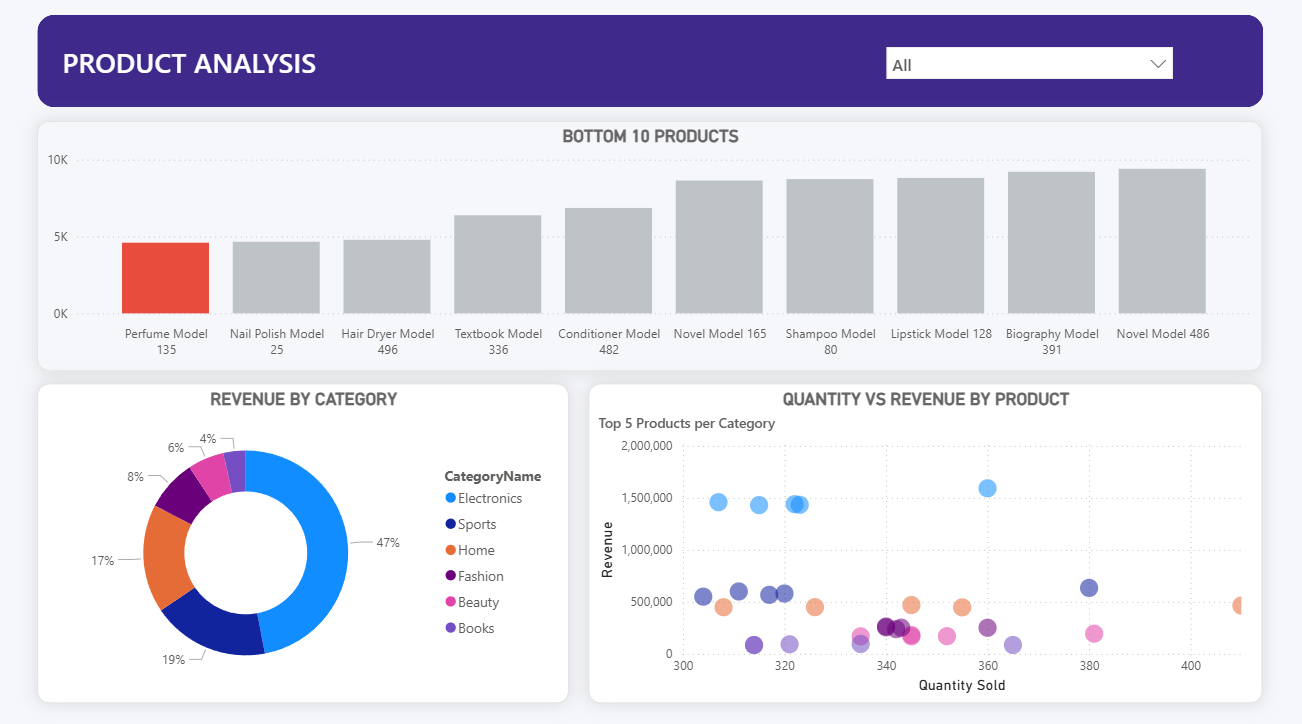

Layout of this report page (visuals, bound fields, positions):
{"tool":"powerbi","page":{"name":"Product Analysis","canvas":[1280,720],"ordinal":1},"visuals":[{"type":"shape","box":[40.4,23.2,1199.6,90.5],"z":0},{"type":"slicer","title":"YEAR ","fields":{"Values":["dwh DimDate.YearNumber"]},"box":[860.9,42.8,300,56.3],"z":1},{"type":"columnChart","title":"BOTTOM 10 PRODUCTS","fields":{"Category":["dwh DimProduct.ProductName"],"Y":["Sum(dwh FactSales.Revenue)"]},"box":[40.4,127.2,1198.4,244.6],"z":2},{"type":"donutChart","title":"REVENUE BY CATEGORY","fields":{"Category":["dwh DimProduct.CategoryName"],"Y":["Sum(dwh FactSales.Revenue)"]},"box":[40.4,384,519.7,313],"z":3},{"type":"scatterChart","title":"QUANTITY VS REVENUE BY PRODUCT","fields":{"X":["Sum(dwh FactSales.Quantity)"],"Y":["dwh DimProduct.Product Revenue"],"Series":["dwh DimProduct.CategoryName"],"Category":["dwh DimProduct.ProductName"]},"box":[579.6,384,659.1,313],"z":4}]}

Visuals, with their boxes in screenshot pixels (x1, y1, x2, y2), scaled from the page's 1280x720 canvas onto the 1302x724 screenshot:
shape: (41,23,1261,114)
"YEAR " slicer: (876,43,1181,100)
"BOTTOM 10 PRODUCTS" columnChart: (41,128,1260,374)
"REVENUE BY CATEGORY" donutChart: (41,386,570,701)
"QUANTITY VS REVENUE BY PRODUCT" scatterChart: (590,386,1260,701)
